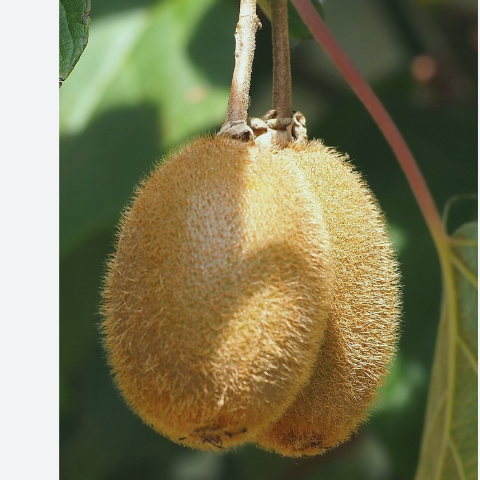kiwi: (99, 111, 332, 477)
